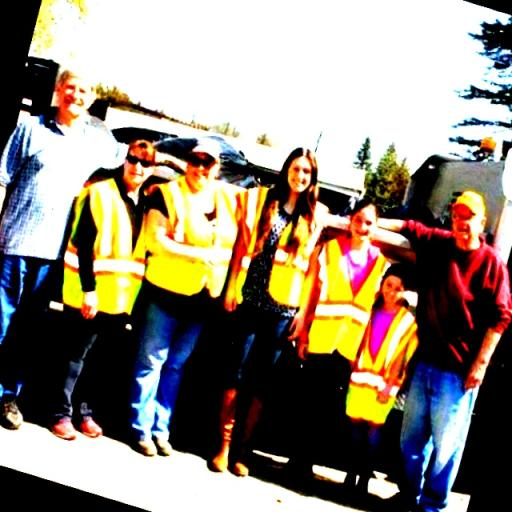Person: (5, 63, 113, 437), (56, 139, 156, 440), (150, 134, 235, 480), (239, 141, 325, 454), (410, 200, 496, 498), (348, 272, 421, 454), (324, 185, 378, 379)
none: (6, 103, 120, 275), (402, 215, 510, 391)
vest: (61, 180, 152, 346), (153, 178, 241, 298), (313, 234, 393, 365), (243, 184, 323, 310), (349, 306, 416, 428)
